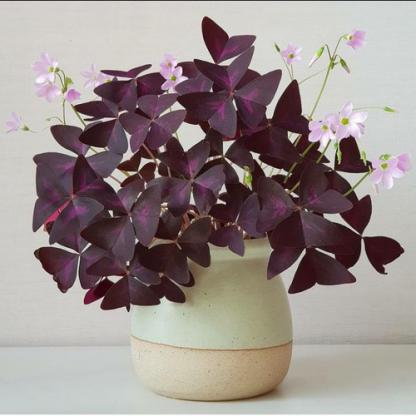Kupu-Kupu: (181, 33, 292, 148), (248, 176, 356, 251), (33, 162, 128, 239), (121, 95, 185, 159)
